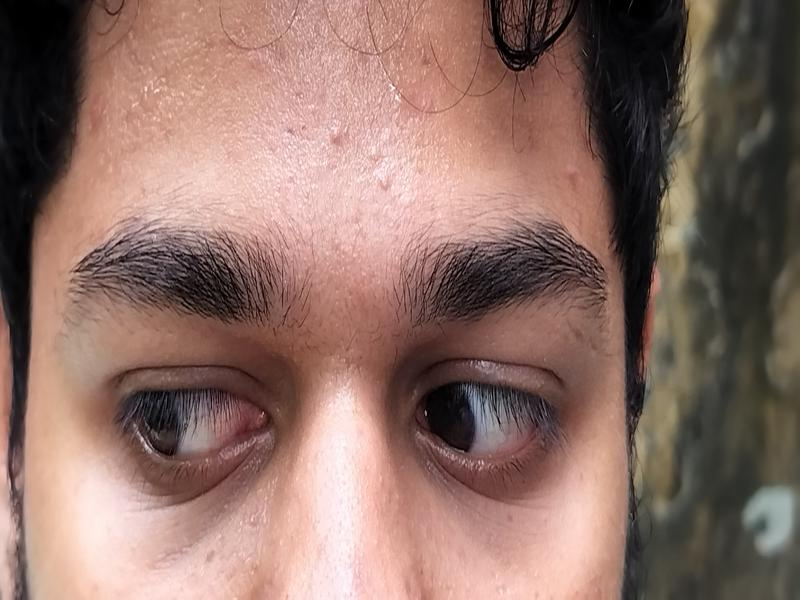EYE RIGHT: (430, 384, 541, 455), (137, 391, 258, 454)
